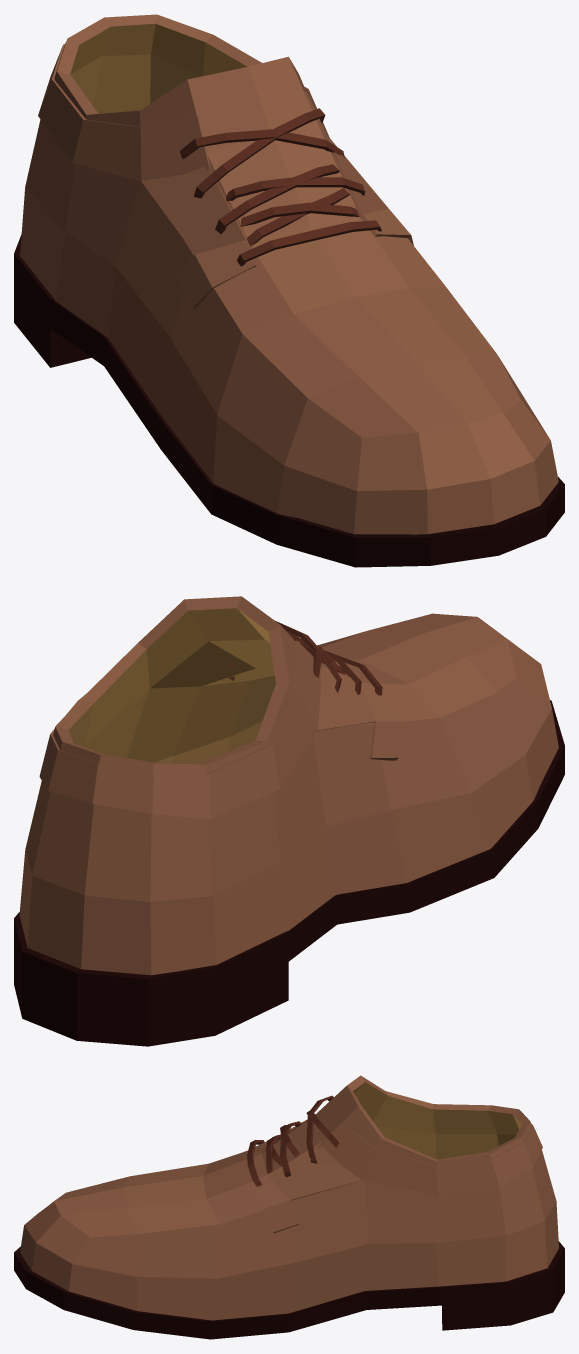
File: Shoe.fbx
The picture shows the model from 3 angles, top to bottom: view 1: azimuth 30°, elevation 25°; view 2: azimuth 150°, elevation 25°; view 3: azimuth 270°, elevation 25°; orthographic projection. The views are drawn at different scales.
Parts seen in each view (by area): view 1: shoes; view 2: shoes; view 3: shoes.
Part boxes in pixels (x1,y1,x2,y2): shoes: (14,14,564,567); shoes: (14,596,564,1046); shoes: (14,1075,564,1339).
Bounding box in the file's own units: 24.97 × 28.38 × 65.8.
